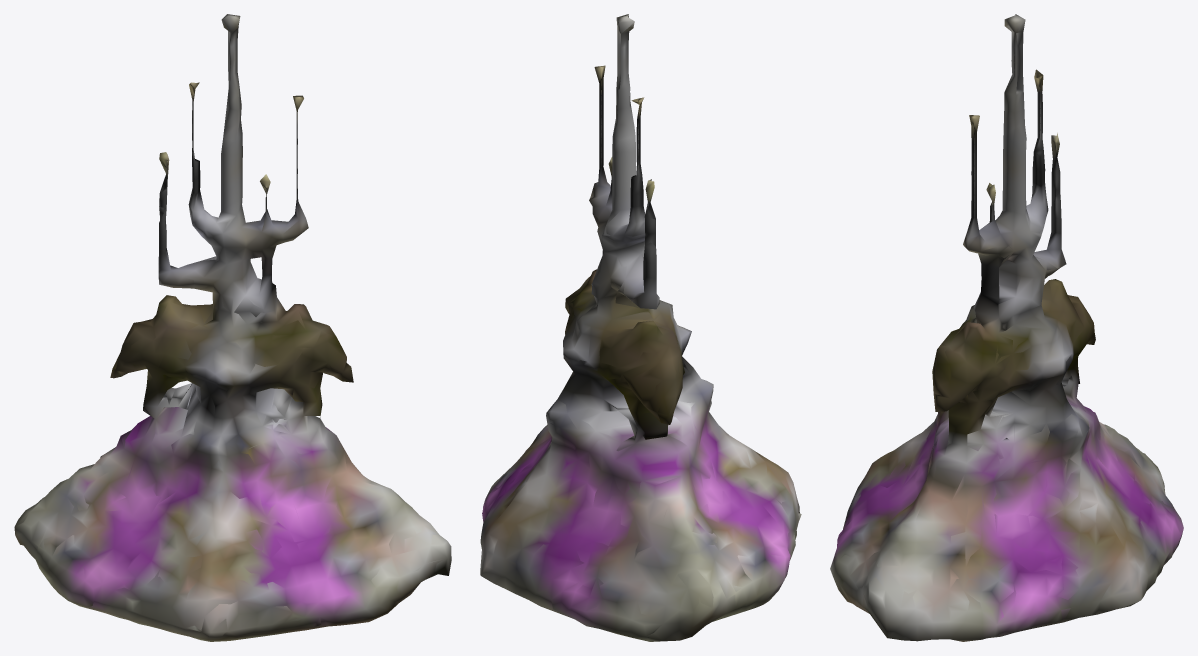
File: psychic_beacon.glb
3 renders of one model, left to right at view 1: azimuth 30°, elevation 25°; view 2: azimuth 150°, elevation 25°; view 3: azimuth 270°, elevation 25°, orthographic. The views are drawn at different scales.
Parts seen in each view (by area): view 1: psychic_beacon; view 2: psychic_beacon; view 3: psychic_beacon.
Part boxes in pixels (x1=…): psychic_beacon: x1=14, y1=14, x2=451, y2=641; psychic_beacon: x1=480, y1=14, x2=801, y2=641; psychic_beacon: x1=830, y1=14, x2=1183, y2=641.
Bounding box in the file's own units: 0.9524 × 1.59 × 0.9214.
